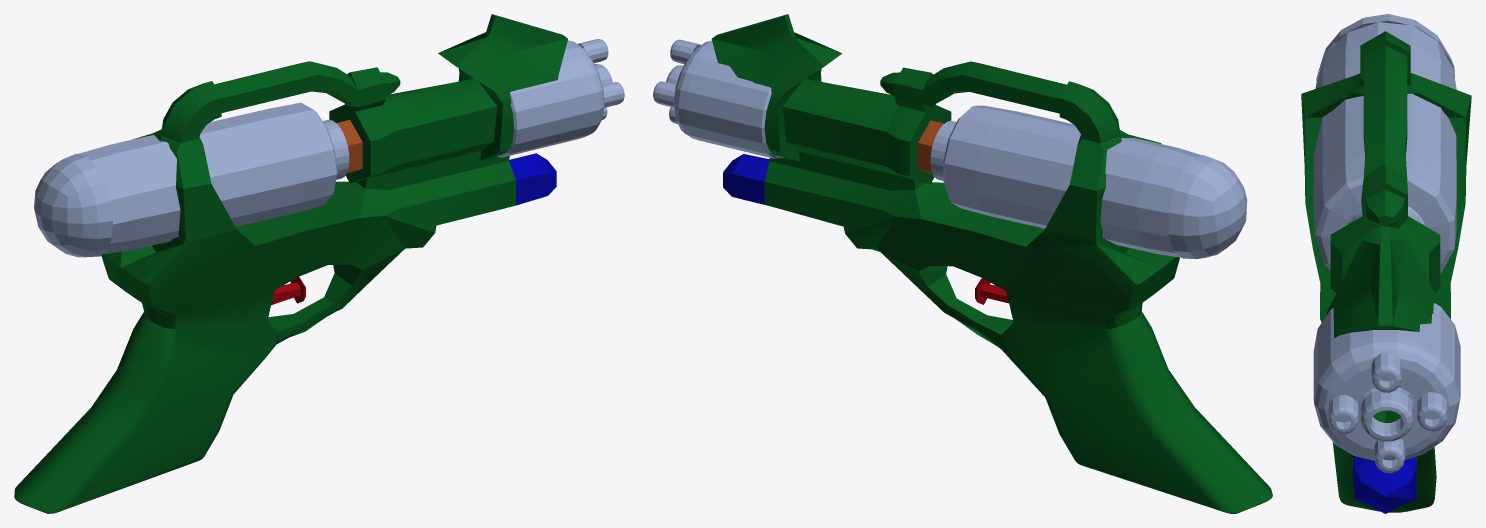
The model's file is pistol.fbx.
3 views of the same model, side by side, from view 1: azimuth 30°, elevation 25°; view 2: azimuth 150°, elevation 25°; view 3: azimuth 270°, elevation 25° (orthographic). The views are drawn at different scales.
Parts seen in each view (by area): view 1: badan, belakang, depan; view 2: badan, belakang, depan; view 3: badan, belakang, depan.
Part boxes in pixels (bbox=[...]): badan: bbox=[14, 14, 567, 513]; belakang: bbox=[34, 102, 349, 257]; depan: bbox=[497, 39, 624, 157]; badan: bbox=[711, 14, 1272, 513]; belakang: bbox=[930, 105, 1247, 259]; depan: bbox=[653, 39, 783, 158]; badan: bbox=[1301, 31, 1471, 513]; belakang: bbox=[1313, 14, 1456, 274]; depan: bbox=[1313, 303, 1460, 473].
Bounding box in the file's own units: 278 × 169 × 52.06.
